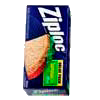grozi_28: (23, 4, 70, 96)
